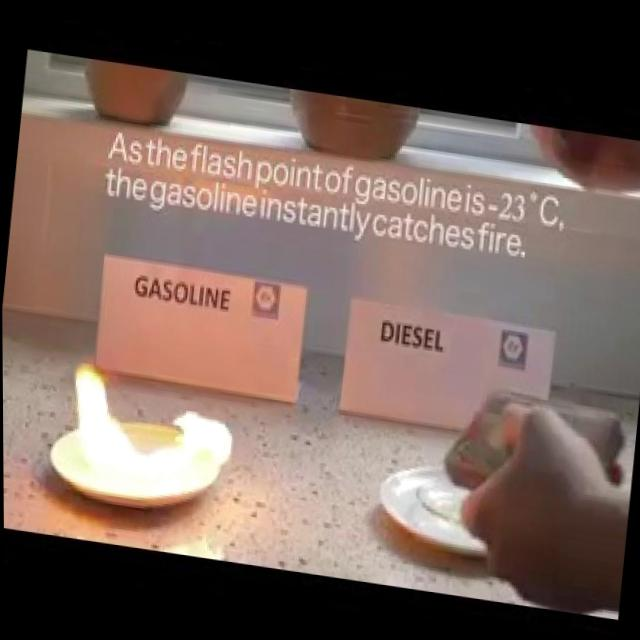helmet: (57, 354, 234, 511)
